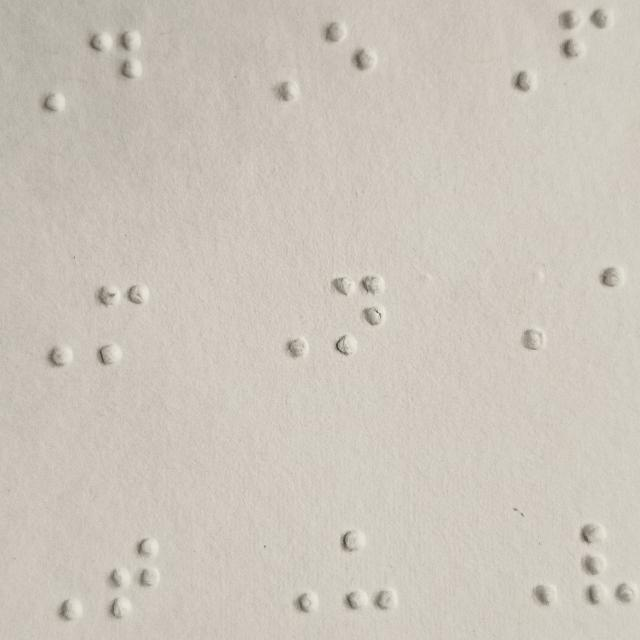D: (88, 30, 140, 109)
E: (324, 23, 375, 102)
F: (559, 9, 611, 88)
M: (97, 283, 149, 365)
N: (334, 276, 385, 355)
T: (107, 537, 159, 618)
U: (342, 531, 394, 612)
V: (583, 524, 637, 605)
capital: (250, 25, 302, 105), (485, 15, 537, 95), (506, 525, 558, 605), (16, 34, 68, 113), (23, 287, 75, 366), (260, 280, 312, 359), (32, 542, 84, 621), (270, 535, 322, 614), (495, 270, 546, 349)
